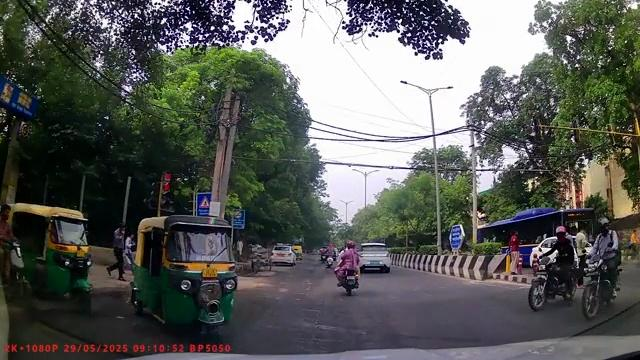motorcycle_with_helmet: (526, 223, 579, 313), (582, 215, 623, 320)
passenger_with_helmet: (333, 239, 361, 297)
